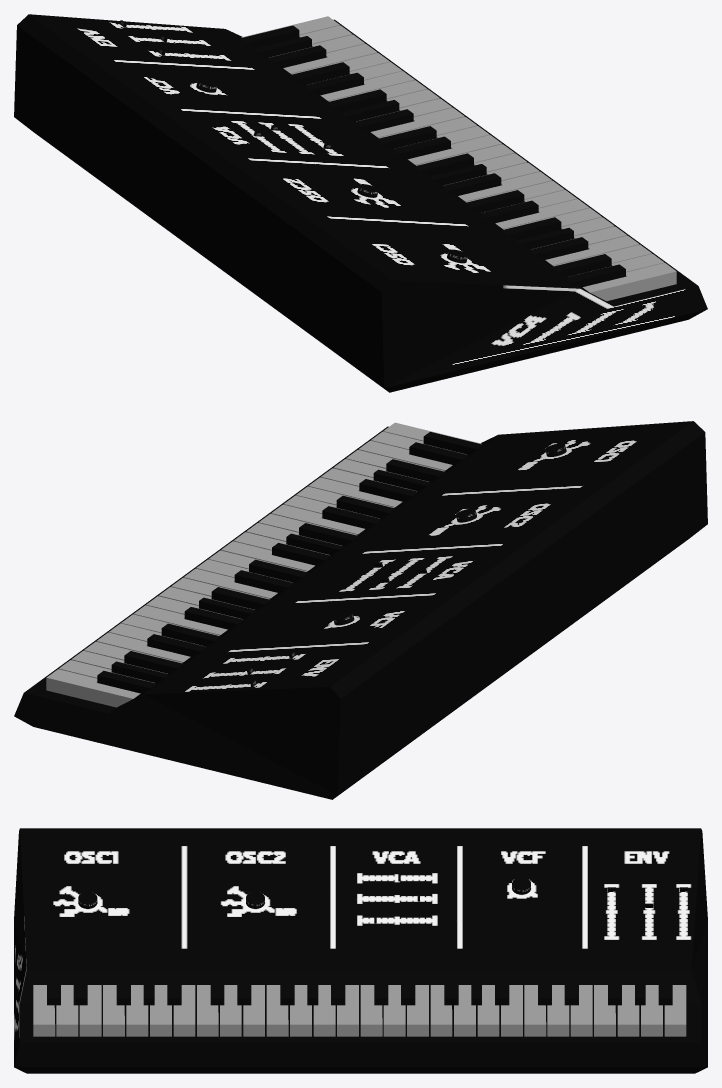
The model's file is Helm_Vintage_Monosynth.obj.
3 renders of one model, top to bottom at view 1: azimuth 30°, elevation 25°; view 2: azimuth 150°, elevation 25°; view 3: azimuth 270°, elevation 25°, orthographic. The views are drawn at different scales.
Parts seen in each view (by area): view 1: Body_Cube.016, Keyboard_Cube.008; view 2: Body_Cube.016, Keyboard_Cube.008; view 3: Body_Cube.016, Keyboard_Cube.008.
Boxes of the visible parts, <box> form: Body_Cube.016: <box>14,14,707,392</box>; Keyboard_Cube.008: <box>240,16,676,301</box>; Body_Cube.016: <box>14,421,707,799</box>; Keyboard_Cube.008: <box>46,422,482,707</box>; Body_Cube.016: <box>14,828,707,1073</box>; Keyboard_Cube.008: <box>33,974,686,1036</box>.
Bounding box in the file's own units: 0.3835 × 0.1408 × 0.76.
4 materials, 2 textured.
